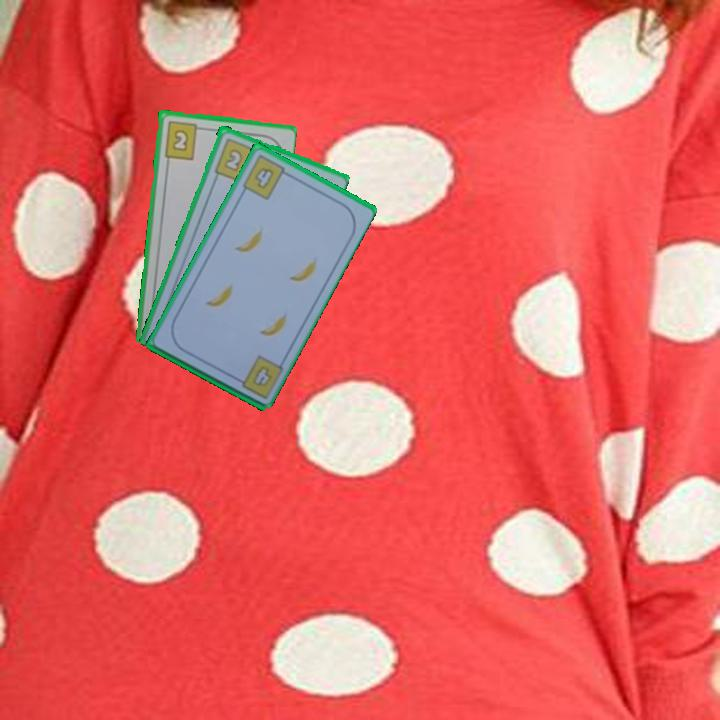2b: (211, 134, 262, 184), (160, 117, 206, 162)
4b: (238, 151, 293, 203), (249, 362, 274, 389)
